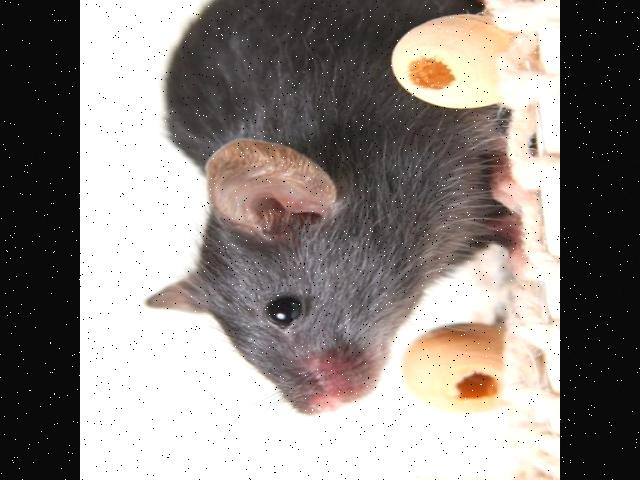Tikus: (144, 0, 494, 417)
